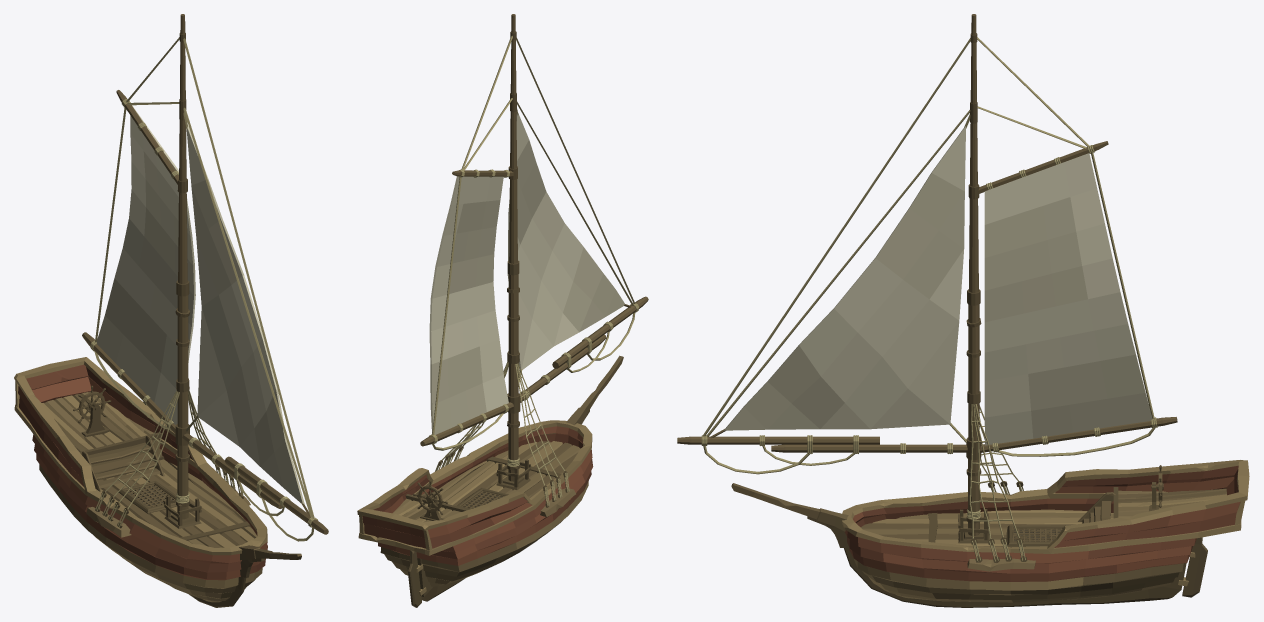
Rendered from SmaillShip_2.fbx.
3 renders of one model, left to right at view 1: azimuth 30°, elevation 25°; view 2: azimuth 150°, elevation 25°; view 3: azimuth 270°, elevation 25°, orthographic. The views are drawn at different scales.
Visible parts, largest first — view 1: SmallShip_2, SmallShip_2_Sails, SmallShip_2_Mast, SmallShip_2_ShipWheel; view 2: SmallShip_2_Sails, SmallShip_2, SmallShip_2_Mast, SmallShip_2_ShipWheel; view 3: SmallShip_2_Sails, SmallShip_2, SmallShip_2_Mast.
Part boxes in pixels (x1=…): SmallShip_2: x1=14, y1=357, x2=301, y2=607; SmallShip_2_Sails: x1=96, y1=105, x2=304, y2=504; SmallShip_2_Mast: x1=82, y1=14, x2=328, y2=541; SmallShip_2_ShipWheel: x1=73, y1=385, x2=111, y2=423; SmallShip_2_Sails: x1=429, y1=113, x2=625, y2=434; SmallShip_2: x1=357, y1=355, x2=623, y2=607; SmallShip_2_Mast: x1=420, y1=14, x2=648, y2=481; SmallShip_2_ShipWheel: x1=412, y1=480, x2=447, y2=517; SmallShip_2_Sails: x1=724, y1=126, x2=1152, y2=445; SmallShip_2: x1=731, y1=404, x2=1249, y2=607; SmallShip_2_Mast: x1=677, y1=14, x2=1177, y2=535.
Size of the model in its own units: 542 by 2222 by 1943.
